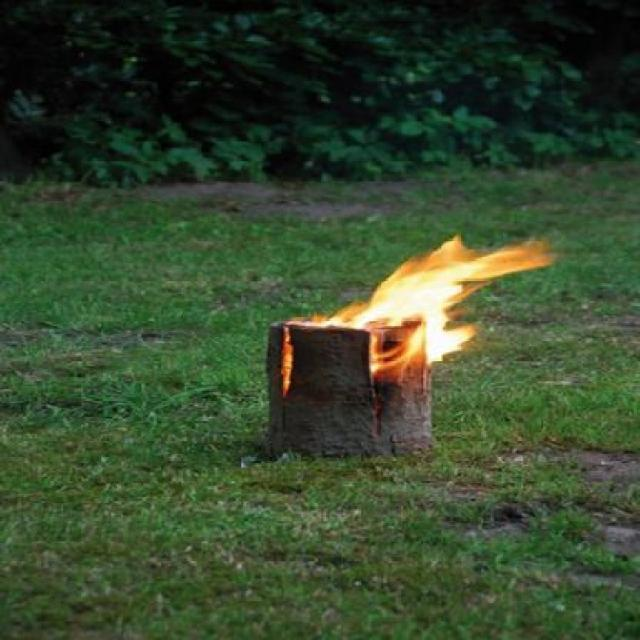fire: (329, 236, 554, 367)
